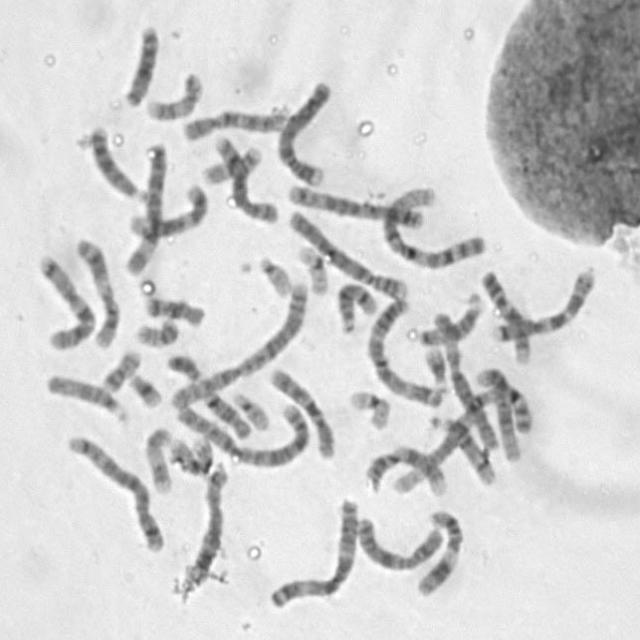A1: (385, 378, 538, 498), (377, 179, 490, 271)
A2: (166, 276, 315, 410), (174, 396, 315, 469)
A3: (265, 492, 362, 610), (362, 292, 447, 408)
B4: (284, 204, 411, 301), (272, 75, 334, 188)
B5: (62, 428, 167, 554), (284, 179, 427, 231)
C10: (265, 360, 337, 461), (178, 100, 291, 142)
C11: (70, 232, 122, 350), (411, 504, 466, 598)
C12: (124, 178, 211, 239), (472, 362, 524, 464)
C6: (426, 302, 503, 458), (120, 137, 170, 277)
C7: (488, 263, 598, 344), (33, 248, 99, 352)
C8: (210, 130, 280, 225), (183, 459, 231, 583)
C9: (477, 264, 534, 366), (359, 441, 451, 496)
D13: (85, 120, 145, 202), (118, 20, 162, 110)
D14: (427, 407, 499, 488), (330, 276, 378, 334)
D15: (42, 368, 129, 422), (416, 288, 487, 348)
E16: (199, 140, 265, 187), (165, 431, 217, 477)
E17: (141, 67, 205, 122), (140, 420, 176, 496)
E18: (140, 291, 208, 329), (203, 392, 252, 439)
F19: (292, 238, 332, 297), (344, 385, 394, 431)
F20: (99, 344, 144, 394), (132, 313, 182, 348)
G21: (419, 340, 452, 394), (124, 368, 166, 410)
G22: (228, 386, 273, 431), (254, 250, 294, 298)
X: (351, 510, 445, 572)
Y: (163, 350, 204, 382)
